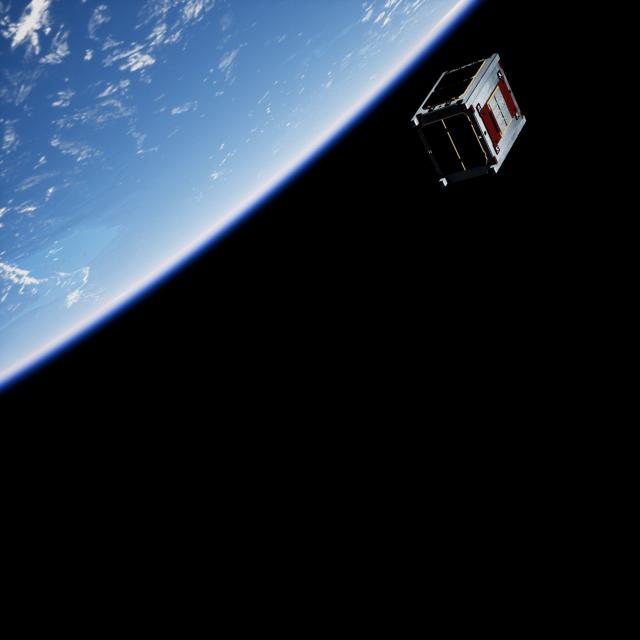satellite: (405, 53, 528, 194)
